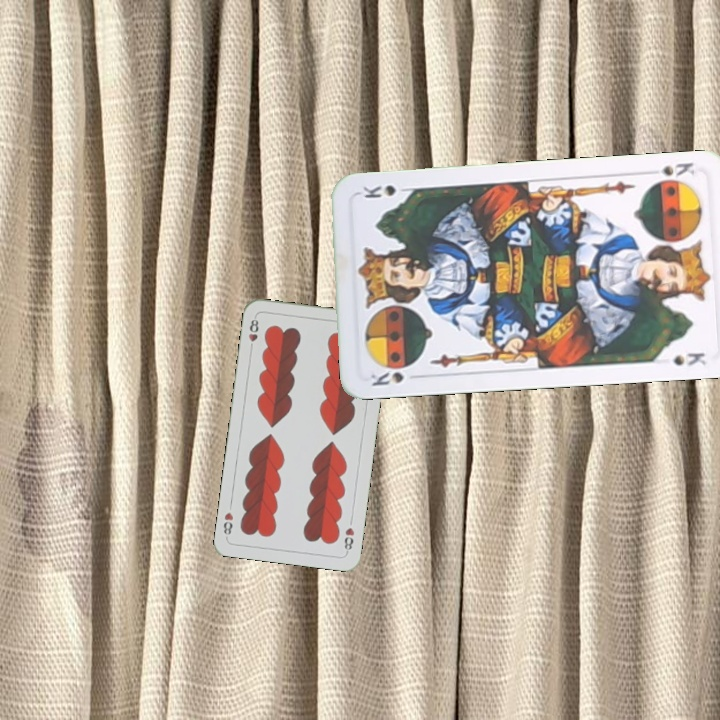H8: (245, 313, 261, 353), (340, 523, 357, 555)
SK: (642, 159, 697, 187), (366, 368, 424, 389)
